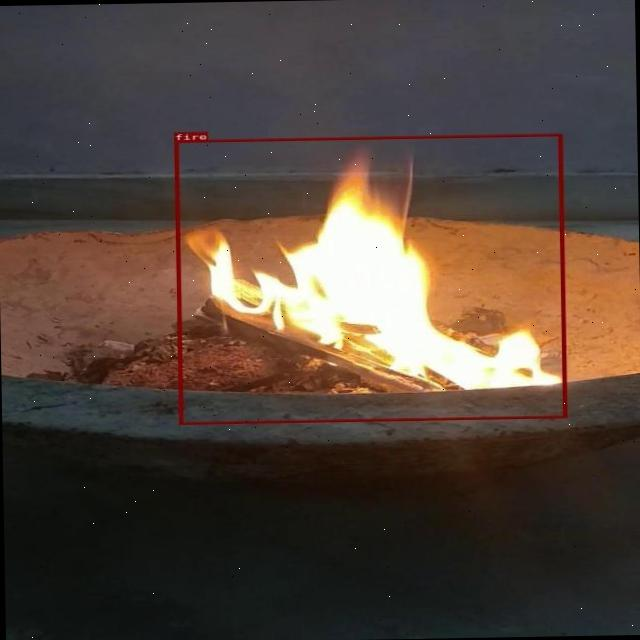fire: (174, 133, 566, 424)
